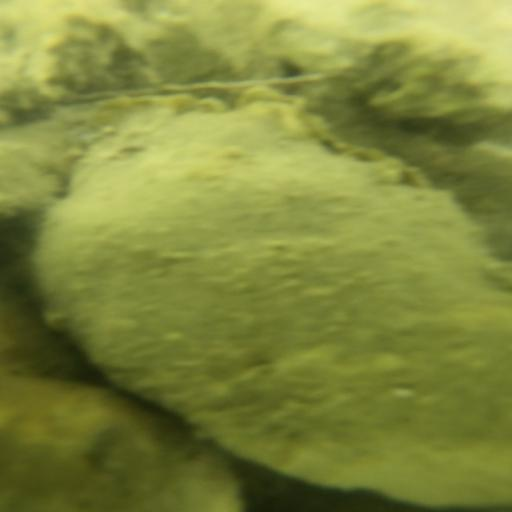Oyster-Closed: (28, 87, 512, 512)
